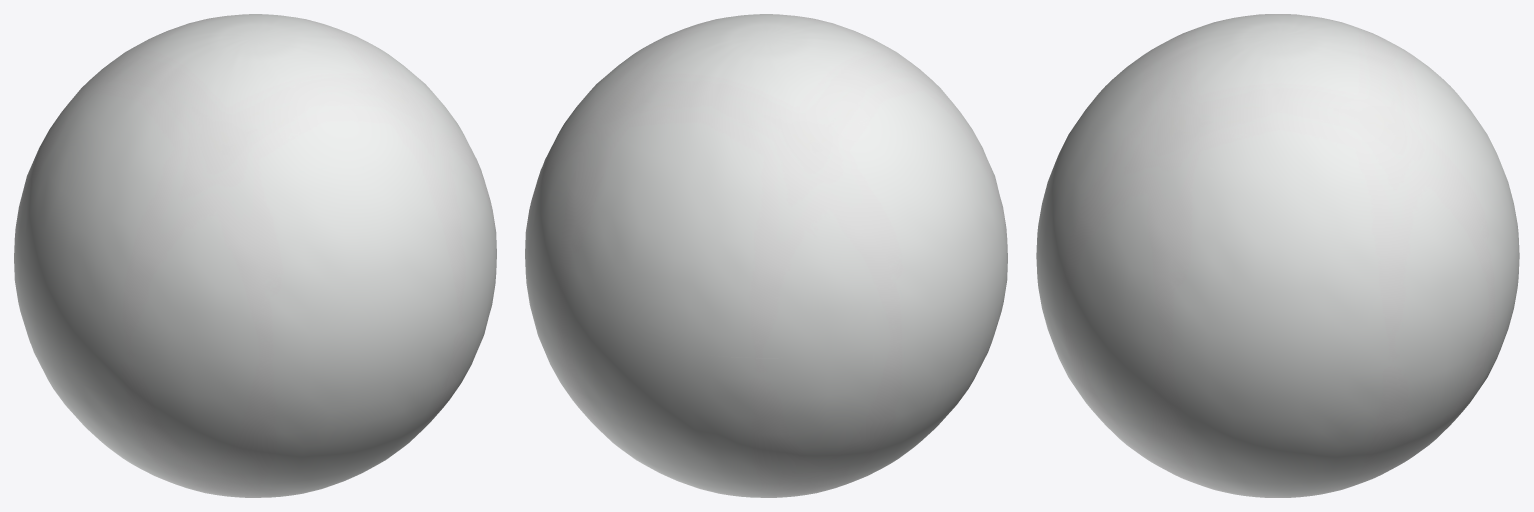
Rendered from sun.glb.
3 views of the same model, side by side, from view 1: azimuth 30°, elevation 25°; view 2: azimuth 150°, elevation 25°; view 3: azimuth 270°, elevation 25° (orthographic).
Visible parts, largest first — view 1: Sun; view 2: Sun; view 3: Sun.
Boxes of the visible parts, <box> form: Sun: <box>14,14,496,497</box>; Sun: <box>525,14,1007,497</box>; Sun: <box>1036,14,1519,497</box>.
Bounding box in the file's own units: 0.998 × 0.998 × 0.998.
Materials: 1 (1 with a texture image).
